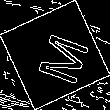M_W: (24, 25, 86, 85)
